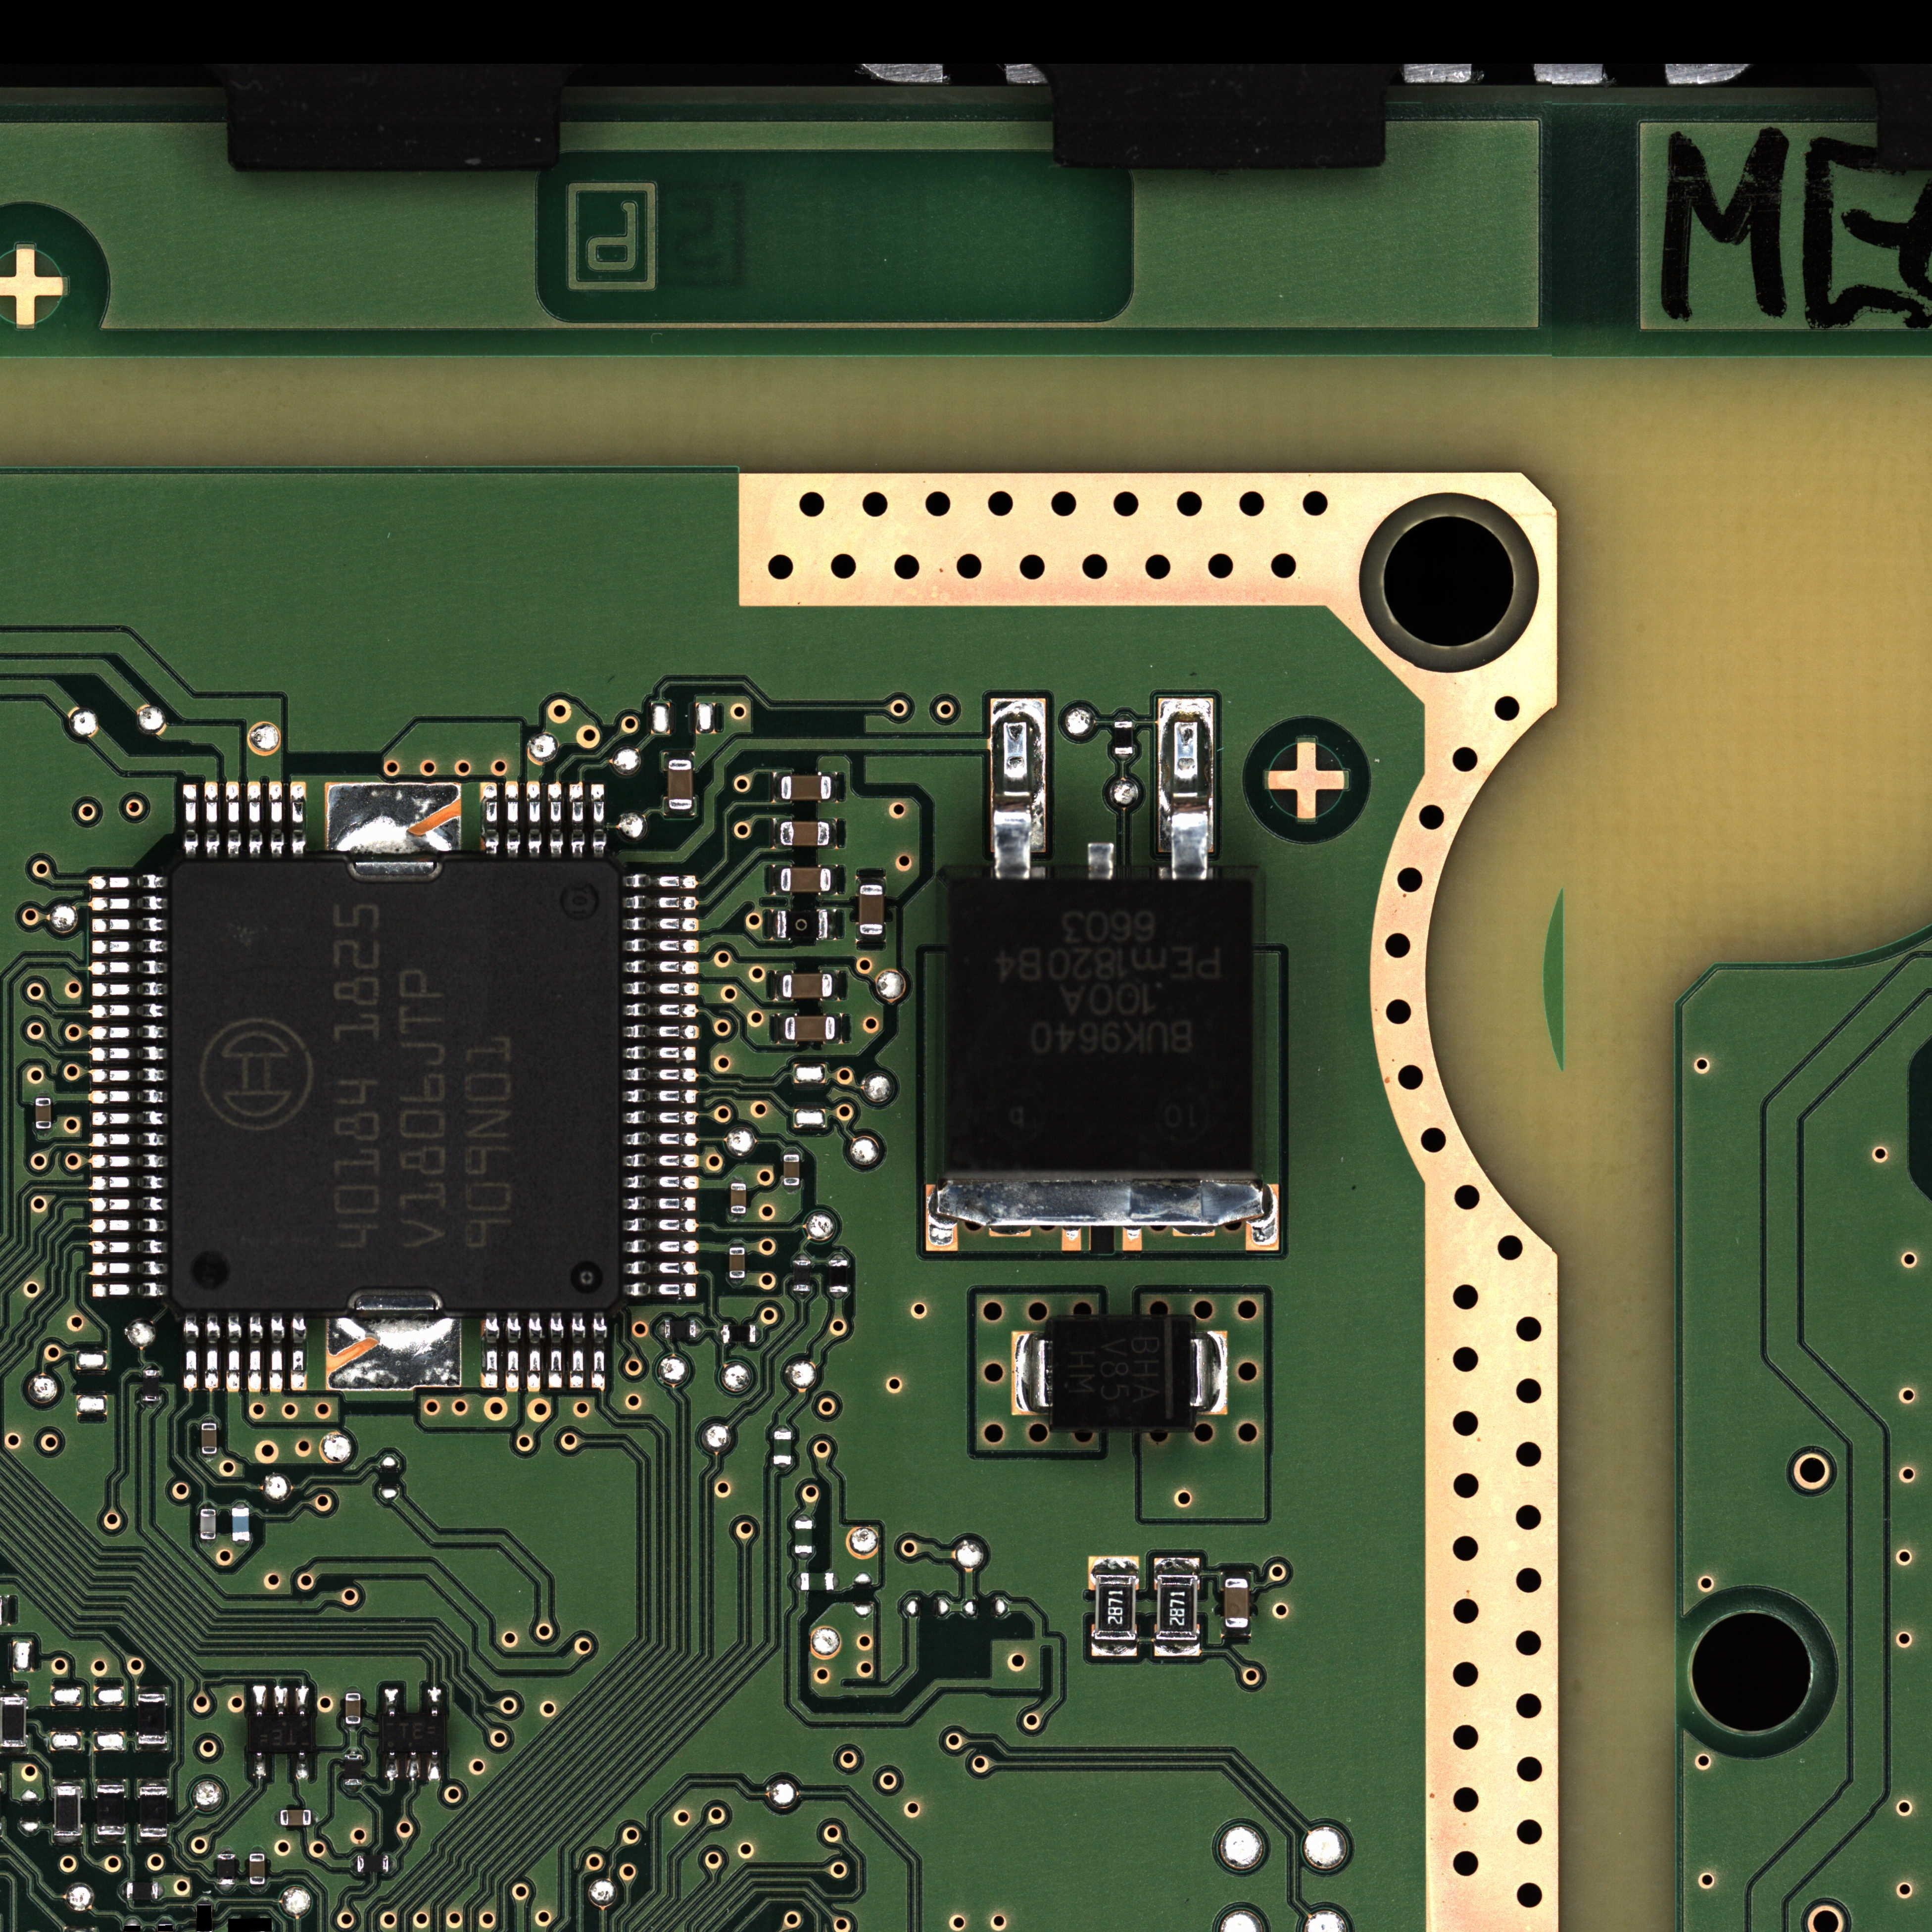Package: (168, 859, 620, 1311), (950, 880, 1251, 1173), (1048, 1314, 1193, 1432), (1094, 1574, 1136, 1640), (1157, 1574, 1197, 1641), (382, 1715, 445, 1751), (249, 1716, 312, 1751), (777, 910, 828, 939), (140, 1787, 167, 1836), (97, 1786, 125, 1835), (138, 1694, 166, 1743), (780, 868, 831, 893), (782, 973, 832, 999), (781, 775, 831, 800), (1, 1697, 26, 1746), (780, 821, 829, 846), (55, 1787, 80, 1835), (859, 884, 883, 934), (785, 1016, 835, 1040), (668, 760, 692, 809), (1225, 1579, 1249, 1628), (1114, 721, 1134, 755), (664, 1319, 696, 1339), (722, 1324, 756, 1343), (829, 1260, 848, 1293), (773, 1431, 791, 1464), (795, 1520, 813, 1553), (217, 1854, 236, 1885), (801, 1573, 833, 1590), (357, 1855, 389, 1873), (232, 1508, 249, 1541), (126, 1882, 158, 1899), (143, 1369, 160, 1401), (344, 1754, 362, 1785), (793, 1260, 811, 1291), (784, 1155, 800, 1186), (36, 1098, 51, 1128), (249, 1854, 265, 1884), (281, 1810, 311, 1825), (200, 1509, 216, 1539), (201, 1423, 217, 1453), (729, 1248, 745, 1278), (731, 1183, 746, 1213), (345, 1693, 360, 1724)
Solder: (926, 1178, 1280, 1252), (324, 783, 461, 860), (1158, 698, 1213, 880), (990, 697, 1045, 879), (327, 1316, 460, 1389), (1011, 1332, 1047, 1416), (1194, 1331, 1227, 1414), (481, 1312, 499, 1389), (480, 781, 498, 857), (291, 1312, 307, 1392), (88, 875, 168, 890), (89, 896, 168, 911), (90, 1154, 168, 1169), (90, 1218, 168, 1233), (248, 1312, 263, 1393), (290, 781, 306, 859), (91, 1261, 168, 1276), (90, 1197, 168, 1212), (89, 961, 169, 975), (527, 1311, 542, 1391), (623, 1260, 700, 1276), (89, 1089, 168, 1104), (88, 1068, 167, 1083), (89, 1132, 168, 1147), (506, 1312, 521, 1392), (89, 1175, 168, 1190), (89, 1046, 168, 1061), (549, 1310, 564, 1389), (624, 1282, 697, 1298), (90, 1240, 167, 1255), (91, 982, 168, 997), (184, 1313, 198, 1391), (622, 917, 699, 931), (227, 1312, 241, 1392), (91, 1111, 168, 1126), (89, 1025, 169, 1040), (92, 918, 168, 932), (622, 960, 699, 974), (623, 1239, 699, 1254), (622, 1217, 699, 1232), (622, 1131, 698, 1146), (89, 1004, 168, 1018), (270, 1312, 284, 1392), (92, 1282, 168, 1297), (205, 1313, 220, 1392), (527, 781, 541, 859), (592, 1312, 606, 1390), (226, 781, 241, 859), (622, 1024, 699, 1039), (623, 1154, 700, 1168), (570, 782, 584, 859), (622, 895, 699, 910), (622, 1003, 699, 1017), (622, 1175, 699, 1189), (571, 1312, 585, 1389), (92, 939, 168, 954), (622, 874, 698, 888), (505, 781, 520, 858), (622, 1111, 698, 1125), (622, 1089, 698, 1103), (247, 782, 262, 858), (591, 783, 606, 859), (548, 782, 563, 858), (622, 1067, 697, 1082), (622, 982, 699, 996), (622, 1046, 697, 1060), (622, 1197, 697, 1211), (622, 939, 699, 953), (269, 781, 283, 858), (184, 784, 198, 858), (205, 782, 219, 858), (1087, 843, 1114, 880), (1089, 1556, 1139, 1574), (1092, 1640, 1137, 1656), (1154, 1558, 1200, 1574), (1154, 1641, 1201, 1656), (273, 1686, 288, 1716), (252, 1685, 267, 1716), (294, 1686, 309, 1716), (294, 1751, 309, 1780), (406, 1751, 421, 1779), (428, 1687, 441, 1717), (384, 1688, 398, 1716), (252, 1752, 267, 1779), (428, 1751, 441, 1781), (385, 1752, 399, 1779), (774, 1014, 785, 1043), (832, 970, 842, 999), (827, 909, 836, 939), (664, 751, 694, 760), (773, 971, 782, 1000), (835, 1014, 844, 1042), (1221, 1628, 1251, 1637), (1222, 1571, 1252, 1579), (137, 1686, 167, 1694), (856, 935, 886, 943), (136, 1744, 168, 1751), (856, 876, 886, 884), (663, 809, 695, 817), (773, 865, 781, 895), (53, 1778, 82, 1786), (139, 1780, 168, 1787), (0, 1689, 28, 1697), (97, 1835, 126, 1842), (773, 773, 781, 802), (54, 1835, 81, 1843), (0, 1747, 28, 1755), (773, 819, 780, 849), (96, 1779, 125, 1786), (829, 820, 836, 849), (1113, 712, 1133, 722), (831, 773, 837, 802), (830, 866, 837, 895), (772, 910, 777, 939), (139, 1837, 168, 1843), (1113, 754, 1134, 761), (773, 1464, 792, 1472), (35, 1129, 52, 1138), (34, 1090, 52, 1098), (829, 1252, 848, 1260), (728, 1278, 746, 1287), (783, 1186, 800, 1194), (792, 1292, 811, 1300), (656, 1320, 664, 1338), (795, 1553, 813, 1561), (232, 1541, 250, 1548), (829, 1292, 848, 1300), (729, 1239, 745, 1248), (793, 1253, 811, 1260), (795, 1513, 813, 1520), (218, 1846, 235, 1854), (200, 1540, 217, 1547), (730, 1213, 747, 1221), (783, 1147, 800, 1155), (345, 1785, 363, 1792), (119, 1882, 126, 1899), (249, 1846, 265, 1854), (311, 1809, 319, 1826), (157, 1883, 165, 1899), (232, 1500, 249, 1508), (773, 1424, 792, 1431), (345, 1686, 361, 1693), (199, 1501, 216, 1509), (729, 1176, 746, 1183), (793, 1573, 801, 1590), (124, 1918, 142, 1925), (218, 1885, 234, 1892), (143, 1363, 160, 1370), (142, 1401, 160, 1408), (249, 1884, 265, 1892), (273, 1810, 281, 1826), (350, 1856, 357, 1873), (388, 1855, 395, 1873), (756, 1325, 762, 1343), (696, 1320, 702, 1338), (201, 1416, 217, 1423), (201, 1454, 218, 1461), (716, 1325, 722, 1343), (345, 1724, 361, 1731), (834, 1573, 840, 1591), (345, 1748, 362, 1754), (158, 1917, 173, 1924), (197, 1898, 211, 1904)
